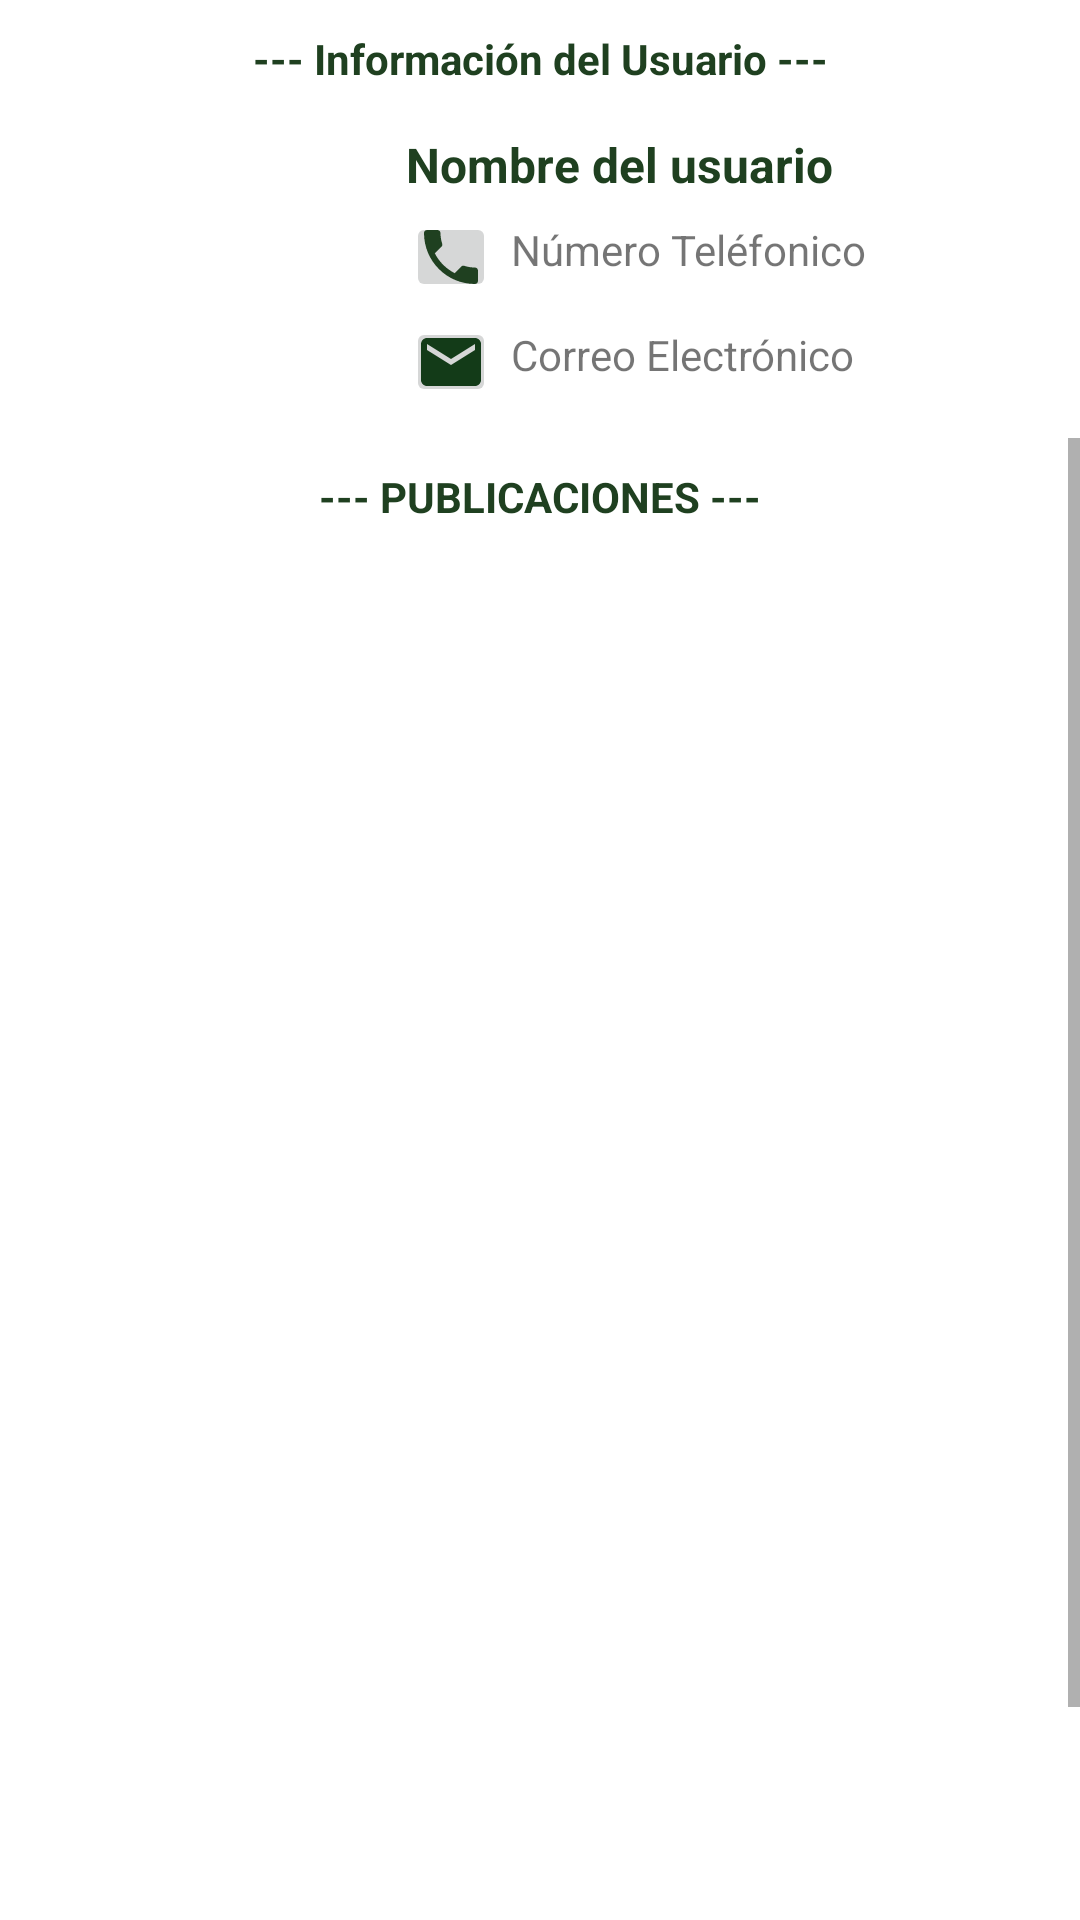

Named icons in this screenshot (1080px×1920px) and their bounding boxes, [x1, y1, x2, y2]:
email: [418, 335, 484, 389]
phone: [418, 230, 484, 284]
